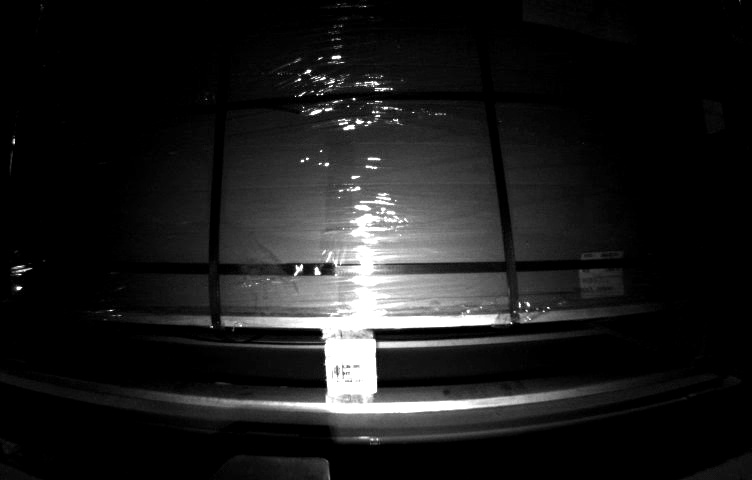True Barcode: (579, 254, 622, 295)
